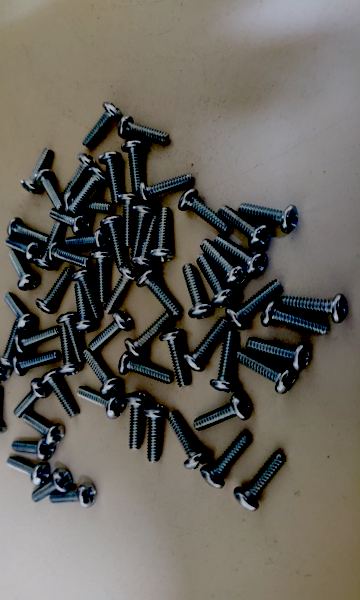shortscrew: (233, 451, 287, 512), (201, 432, 253, 490), (227, 280, 284, 331), (235, 350, 296, 394), (168, 409, 209, 471), (183, 318, 229, 372), (124, 312, 175, 359), (219, 205, 272, 250), (261, 300, 329, 335), (200, 238, 248, 287), (178, 189, 230, 234), (194, 393, 252, 432), (137, 268, 181, 318), (214, 236, 267, 277), (196, 254, 236, 308), (246, 338, 311, 371), (88, 311, 134, 354), (281, 294, 349, 323), (160, 329, 192, 389), (82, 102, 122, 149), (42, 369, 79, 419), (183, 263, 215, 320), (71, 167, 109, 214), (140, 173, 195, 205), (119, 352, 174, 384), (105, 265, 140, 315), (240, 204, 300, 233), (36, 266, 72, 314), (211, 331, 238, 393), (77, 386, 126, 420), (141, 404, 168, 463), (56, 312, 85, 366), (21, 148, 55, 194), (13, 378, 52, 418), (63, 154, 96, 201), (132, 215, 160, 269), (118, 116, 170, 145), (34, 219, 63, 271), (124, 393, 149, 450), (13, 326, 62, 355), (22, 414, 66, 446), (131, 204, 156, 260), (32, 469, 73, 503), (150, 208, 175, 263), (4, 292, 38, 332), (121, 141, 147, 193), (101, 216, 127, 268), (50, 482, 99, 509), (7, 457, 51, 487), (13, 350, 61, 377), (9, 250, 40, 291), (89, 251, 113, 303), (58, 325, 82, 377), (49, 242, 93, 270), (36, 170, 64, 213), (64, 191, 113, 215), (47, 210, 92, 236), (118, 192, 139, 247), (66, 228, 113, 251), (8, 218, 48, 244), (6, 238, 44, 264), (11, 438, 55, 460), (0, 322, 20, 367), (0, 345, 11, 384), (0, 386, 7, 435)
